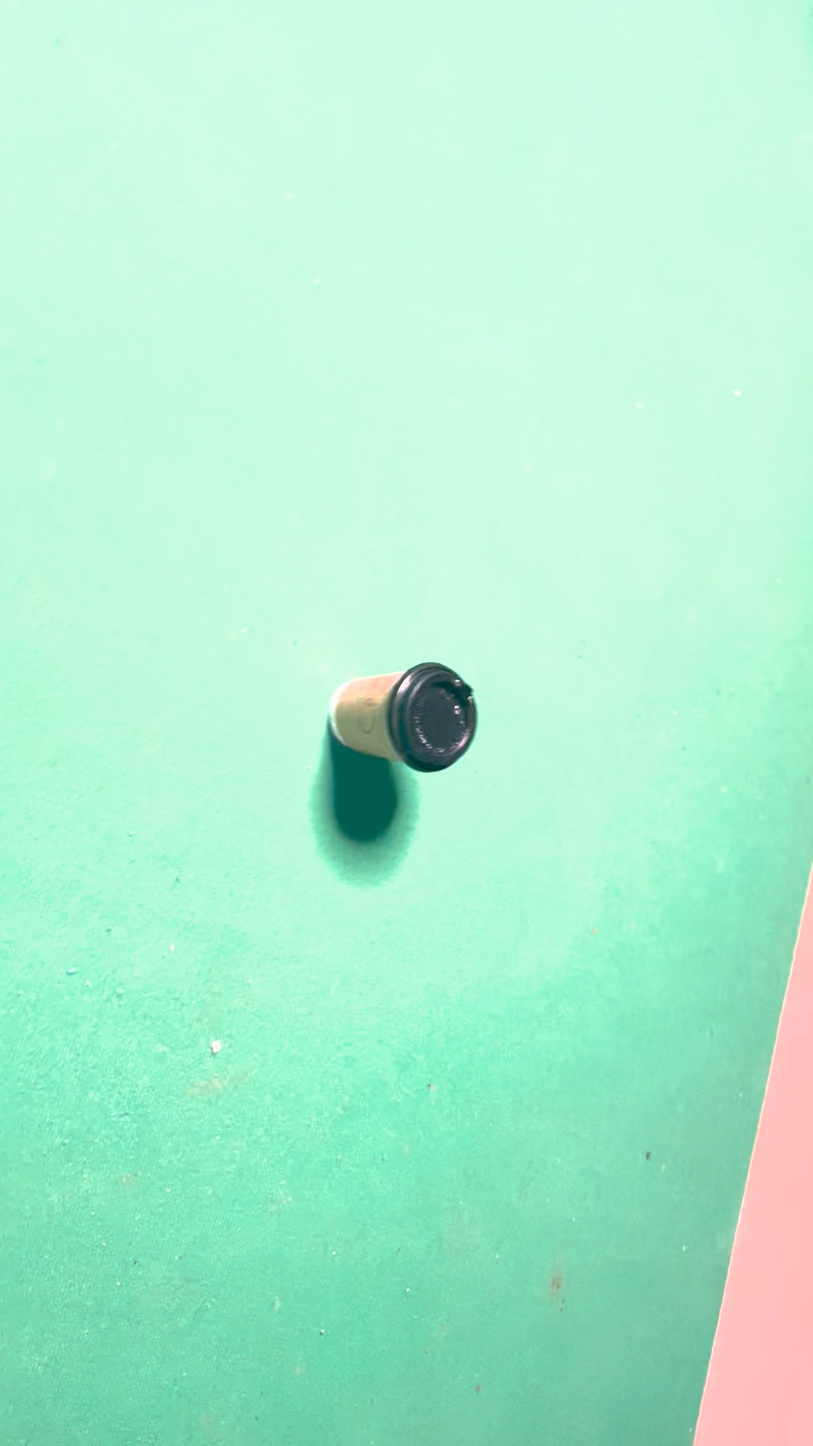cup: (392, 785, 464, 1109)
